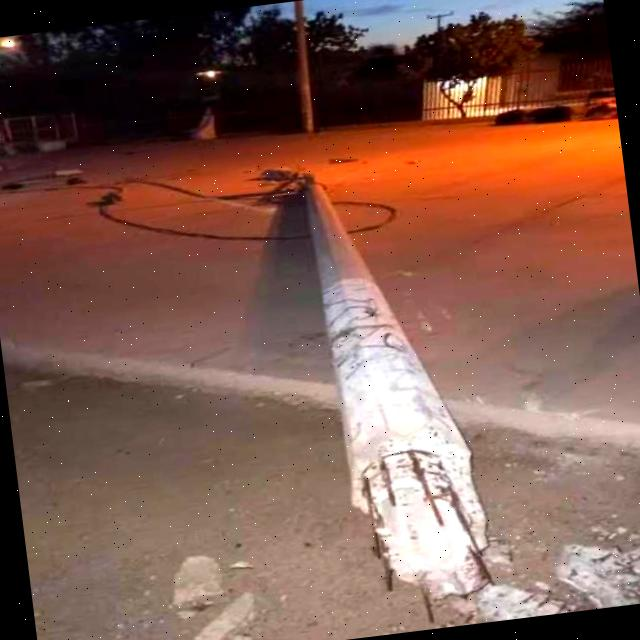Broken Pole: (302, 165, 495, 603)
